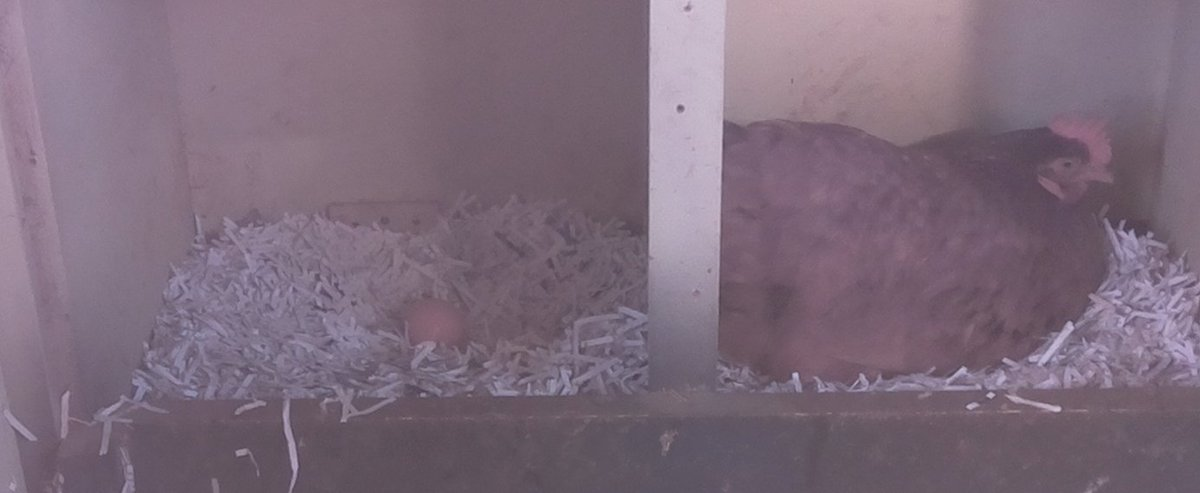egg: (396, 294, 476, 352)
hen: (719, 111, 1118, 371)
